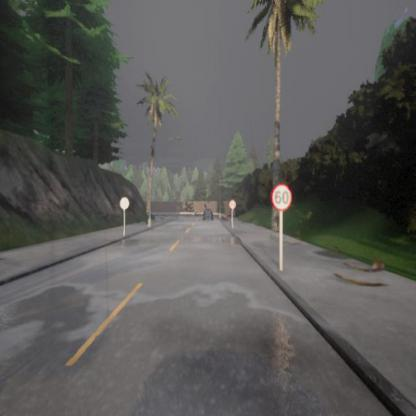traffic_sign_60: (272, 183, 292, 210)
